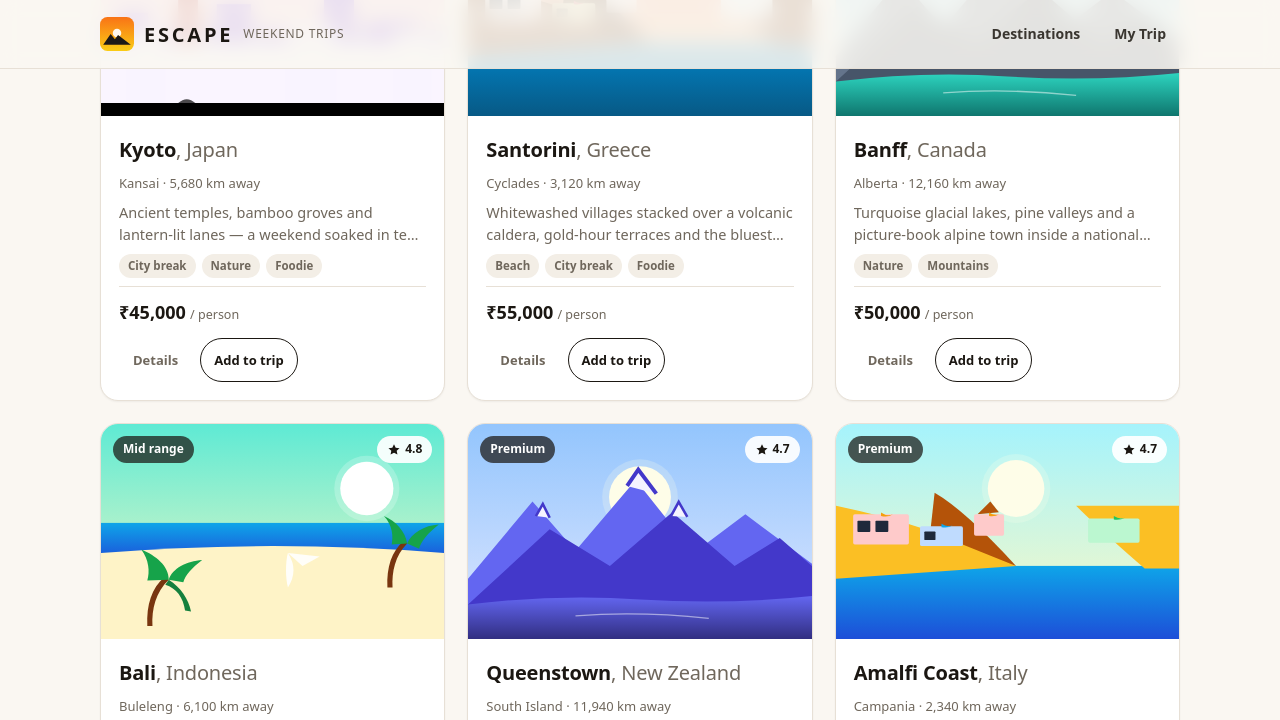
Test: App › opens and closes the destination details dialog
The image size is (1280, 720).
(page scrolled)
Click the button "Details" below "₹45,000" at (156, 360), box [119,338,192,382]
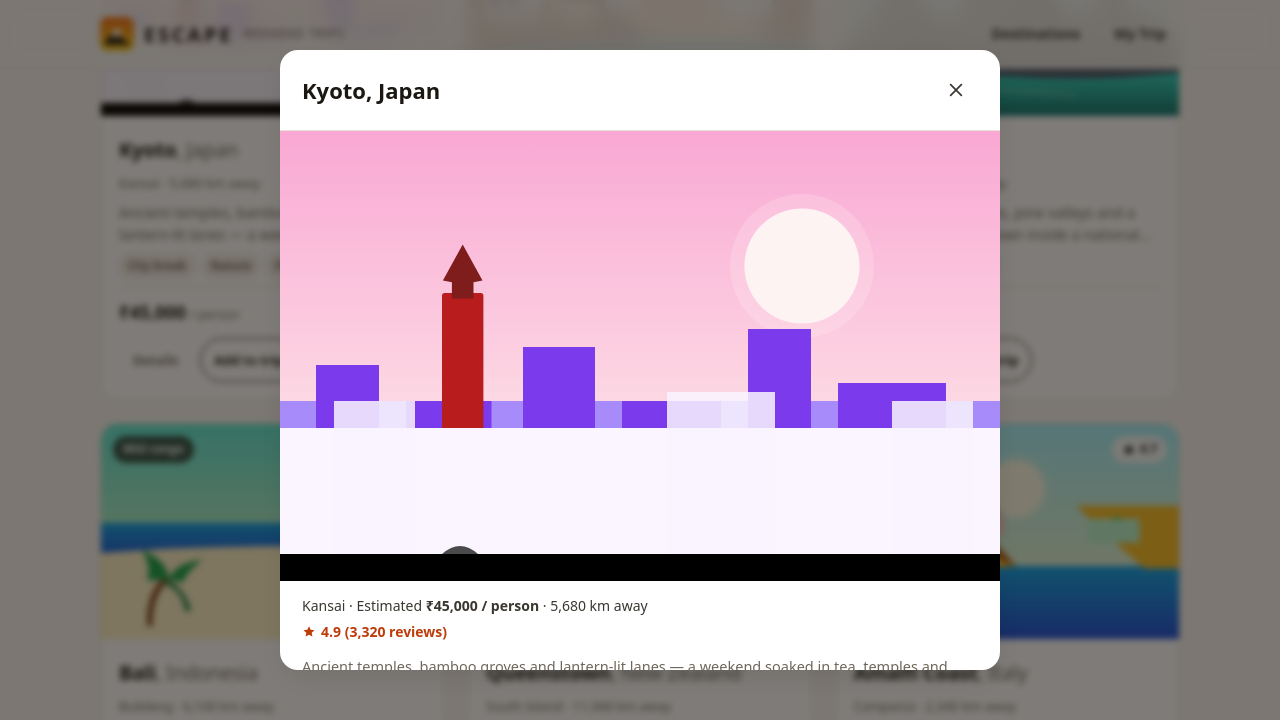
Check: the dialog is shown, box [280,50,1000,670]
Click the button named "Close details" at (956, 90), box [934,68,978,112]
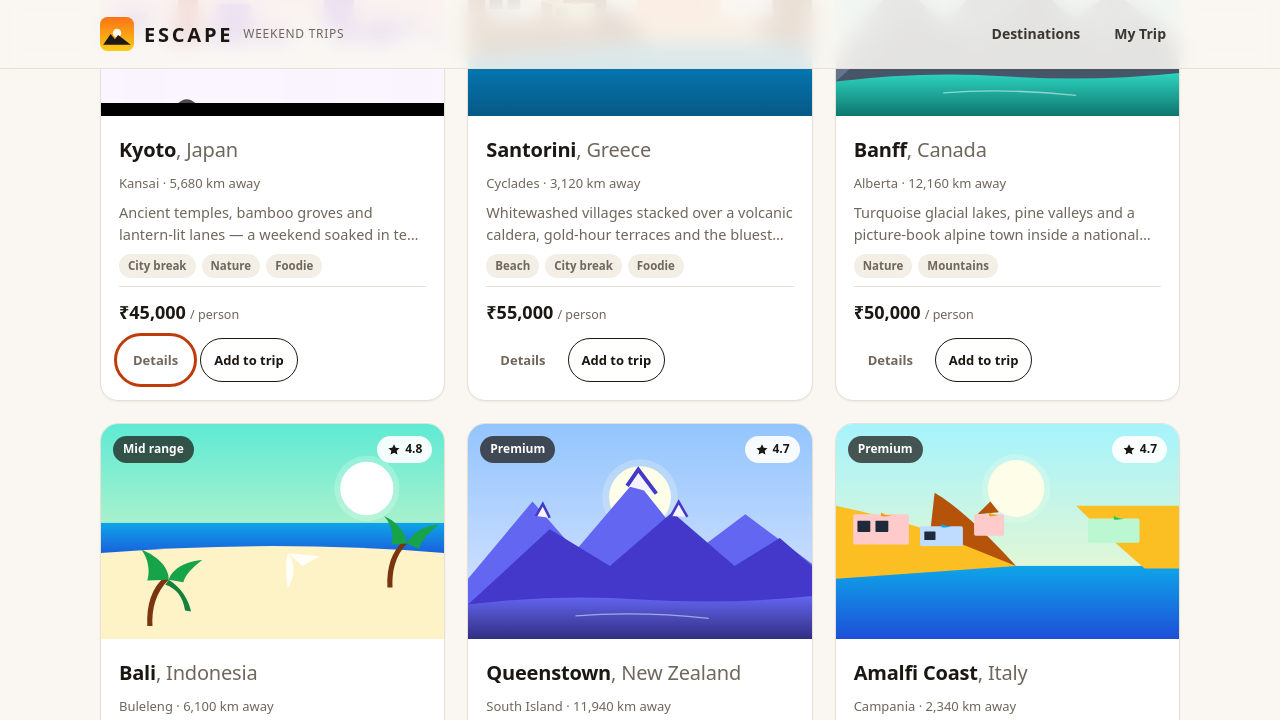
Check: the dialog is gone
